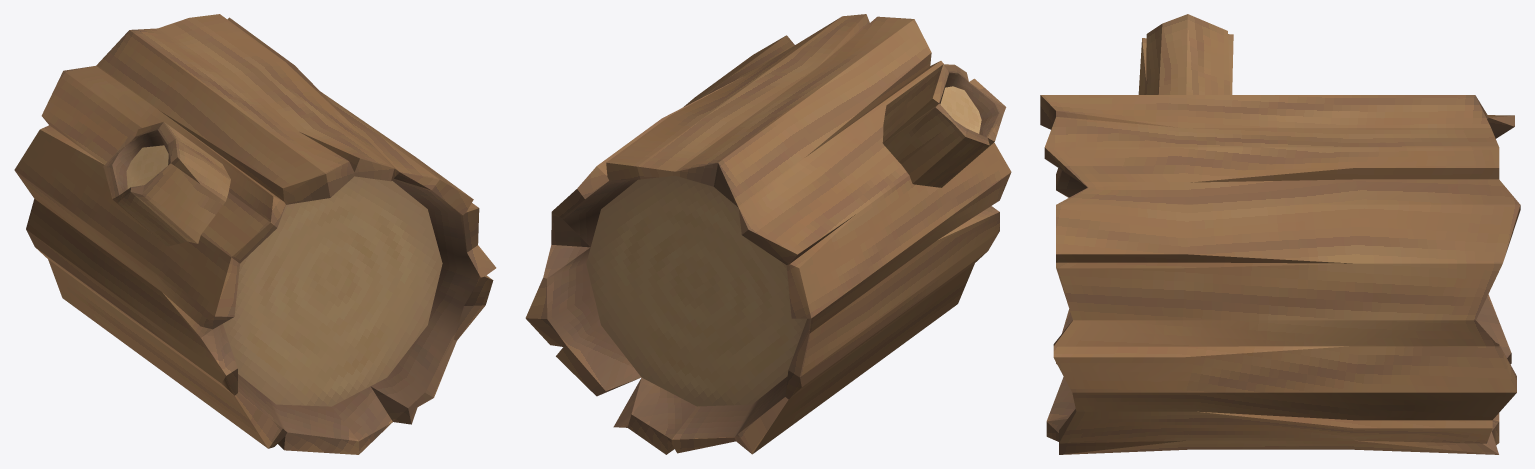
The model's file is wood.glb.
3 renders of one model, left to right at view 1: azimuth 30°, elevation 25°; view 2: azimuth 150°, elevation 25°; view 3: azimuth 270°, elevation 25°, orthographic. The views are drawn at different scales.
Parts seen in each view (by area): view 1: log_obj; view 2: log_obj; view 3: log_obj.
Part boxes in pixels (left/top/right/bottom): log_obj: left=14, top=14, right=496, bottom=454; log_obj: left=525, top=14, right=1011, bottom=454; log_obj: left=1040, top=14, right=1520, bottom=454.
Bounding box in the file's own units: 0.025 × 0.0239 × 0.0293.
Materials: 1 (1 with a texture image).
